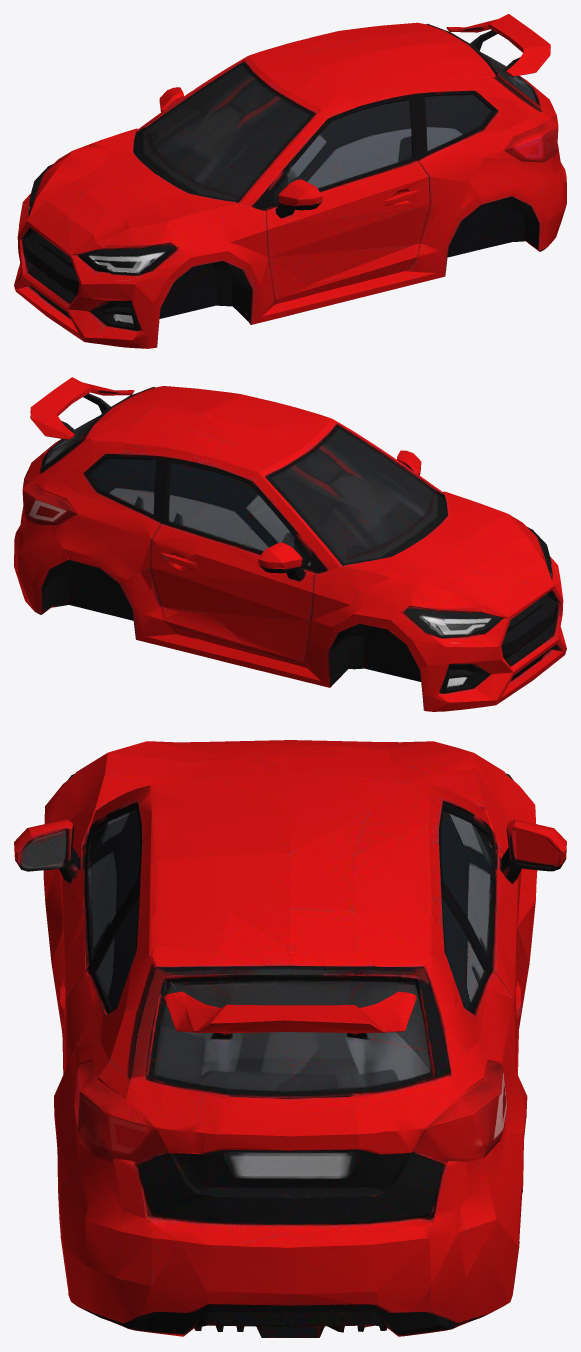
The model's file is hatchback.glb.
3 renders of one model, top to bottom at view 1: azimuth 30°, elevation 25°; view 2: azimuth 150°, elevation 25°; view 3: azimuth 270°, elevation 25°, orthographic. The views are drawn at different scales.
Bounding box in the file's own units: 1.9 × 0.6901 × 0.9713.
1 material, 1 textured.
